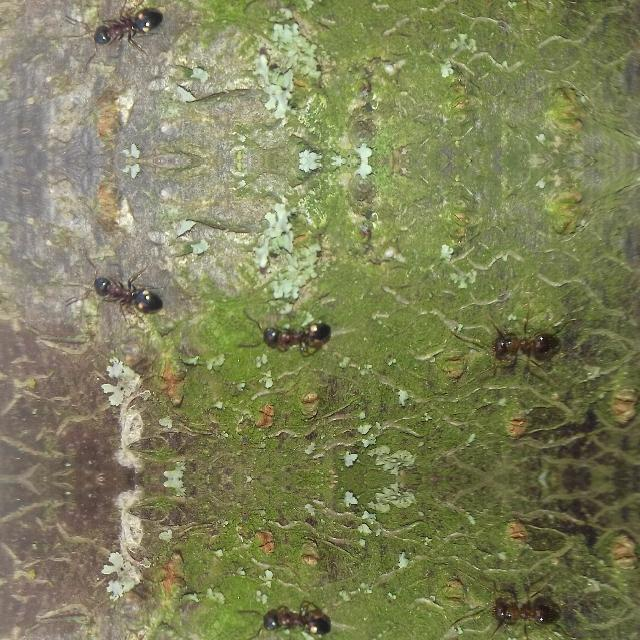Dolichoderus: (456, 315, 584, 377), (456, 578, 584, 640), (58, 1, 175, 58), (58, 262, 175, 318), (236, 310, 344, 356), (236, 600, 344, 640), (236, 0, 344, 10)
